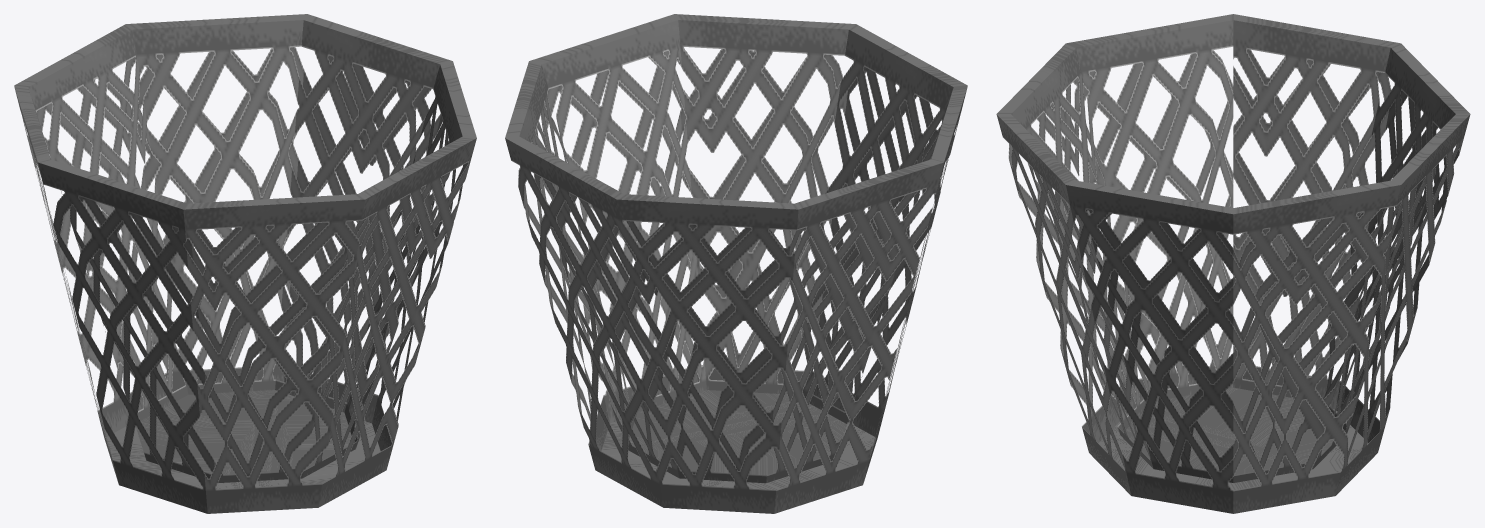
File: basura_vacia.fbx
The picture shows the model from 3 angles, left to right: view 1: azimuth 30°, elevation 25°; view 2: azimuth 150°, elevation 25°; view 3: azimuth 270°, elevation 25°; orthographic projection.
Parts seen in each view (by area): view 1: basura vacia; view 2: basura vacia; view 3: basura vacia.
Part boxes in pixels (x1=…): basura vacia: x1=14, y1=14, x2=476, y2=513; basura vacia: x1=505, y1=14, x2=967, y2=513; basura vacia: x1=996, y1=14, x2=1470, y2=513.
Size of the model in its own units: 228 by 180 by 228.
